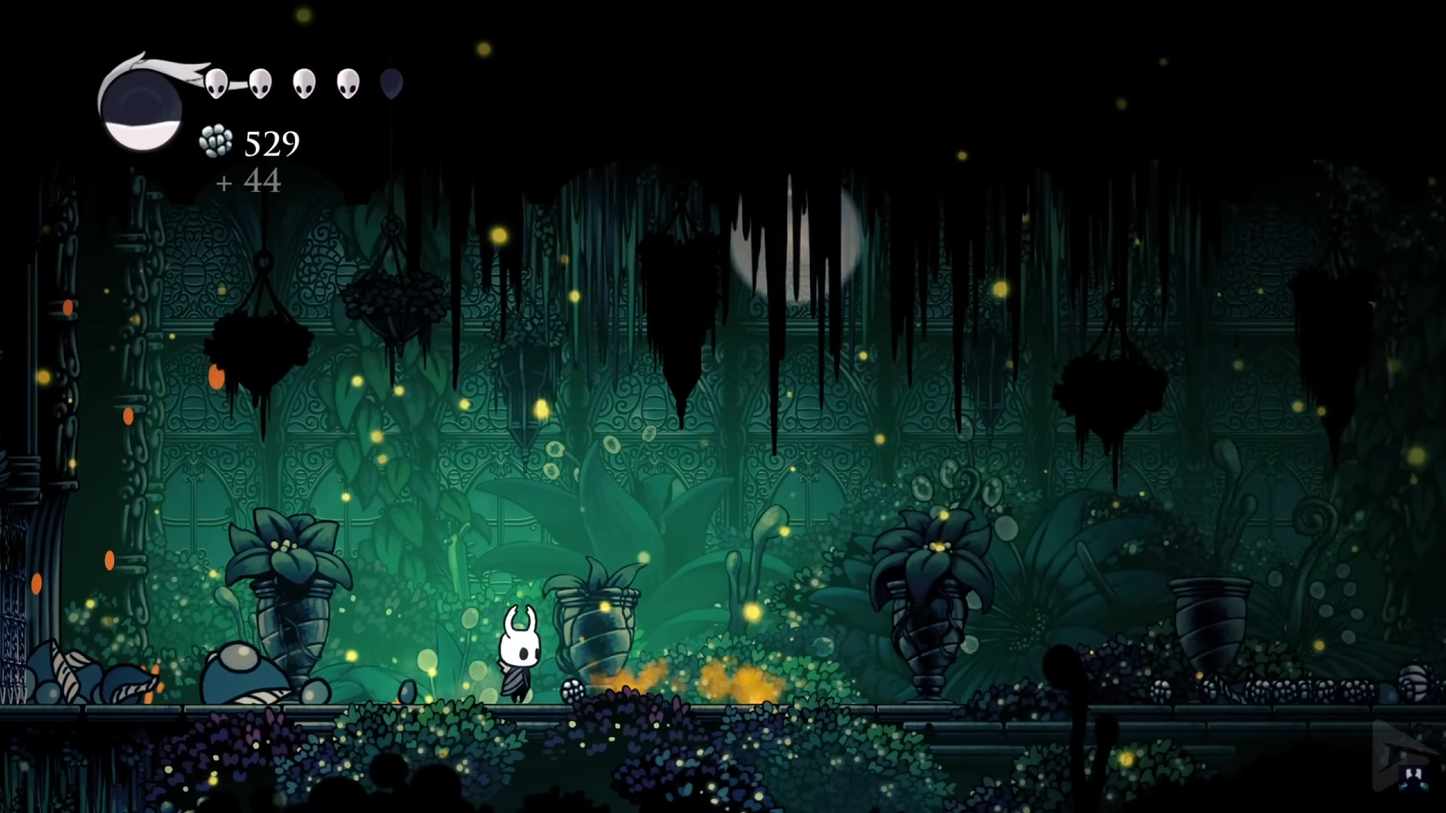HK: (493, 604, 546, 707)
